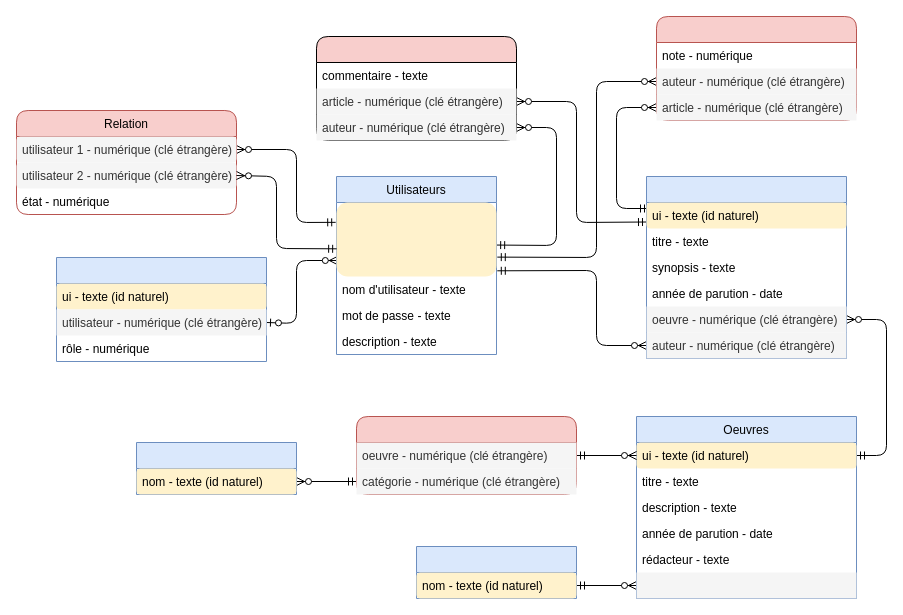
Image size: 903x615. Some labels were removed from this diagram. The box of each missing label's shape, as (x1, y1, x2, y2) in pixels:
Appartient: (356, 416, 576, 494)
Articles: (646, 176, 846, 358)
Catégories: (136, 442, 296, 494)
Commentaires: (316, 36, 516, 140)
email - texte (id naturel): (336, 202, 496, 276)
Notes: (656, 16, 856, 120)
Rôles: (56, 256, 266, 362)
type - numérique (clé étrangère): (636, 572, 856, 598)
Types: (416, 546, 576, 598)
